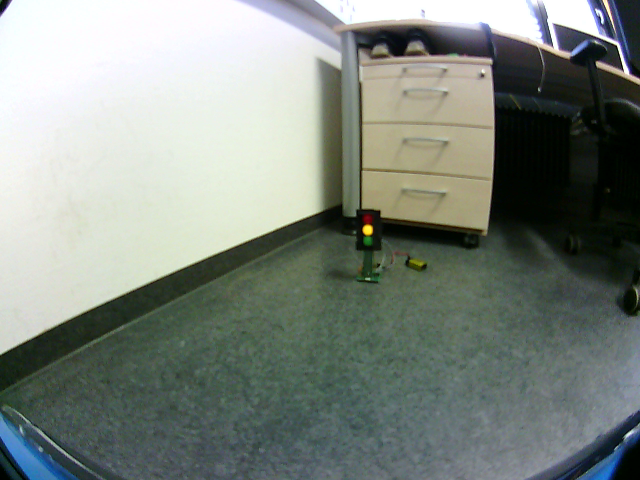yellow trafficlight: (358, 211, 379, 250)
